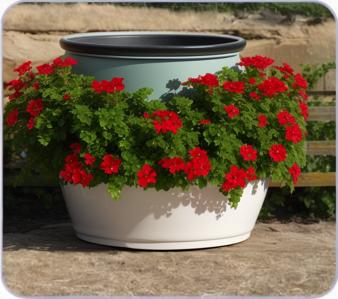pottedplant: (3, 29, 308, 251)
